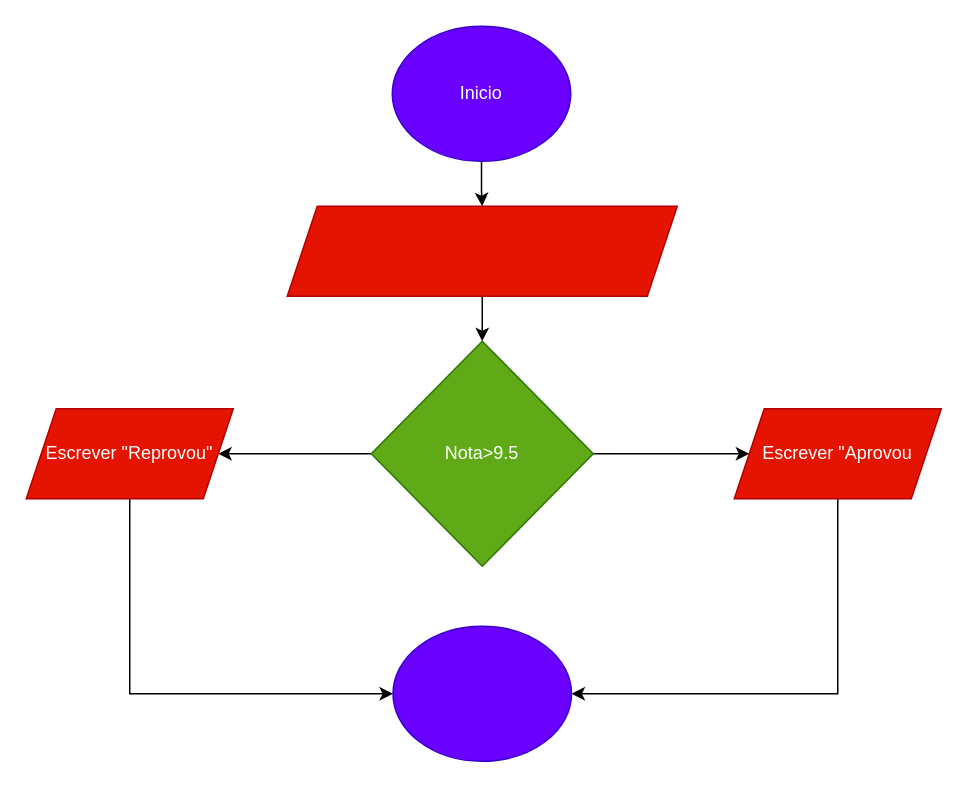
Image size: 968x788. Some labels were removed from this diagram. Here are the shapes that lost their labels. From the top down, the centre of each, then its label:
At pixel 481 250: "Pedir Nota".
At pixel 482 693: "Fim".
